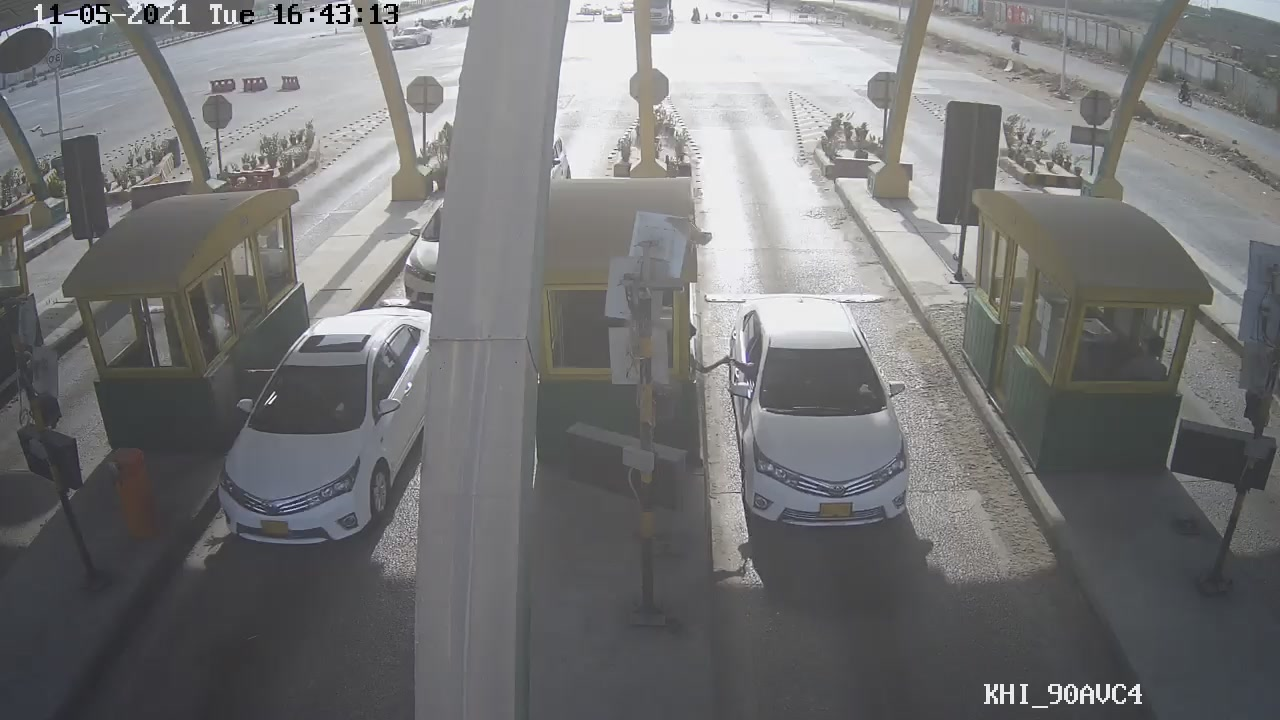F1: (716, 303, 921, 526)
